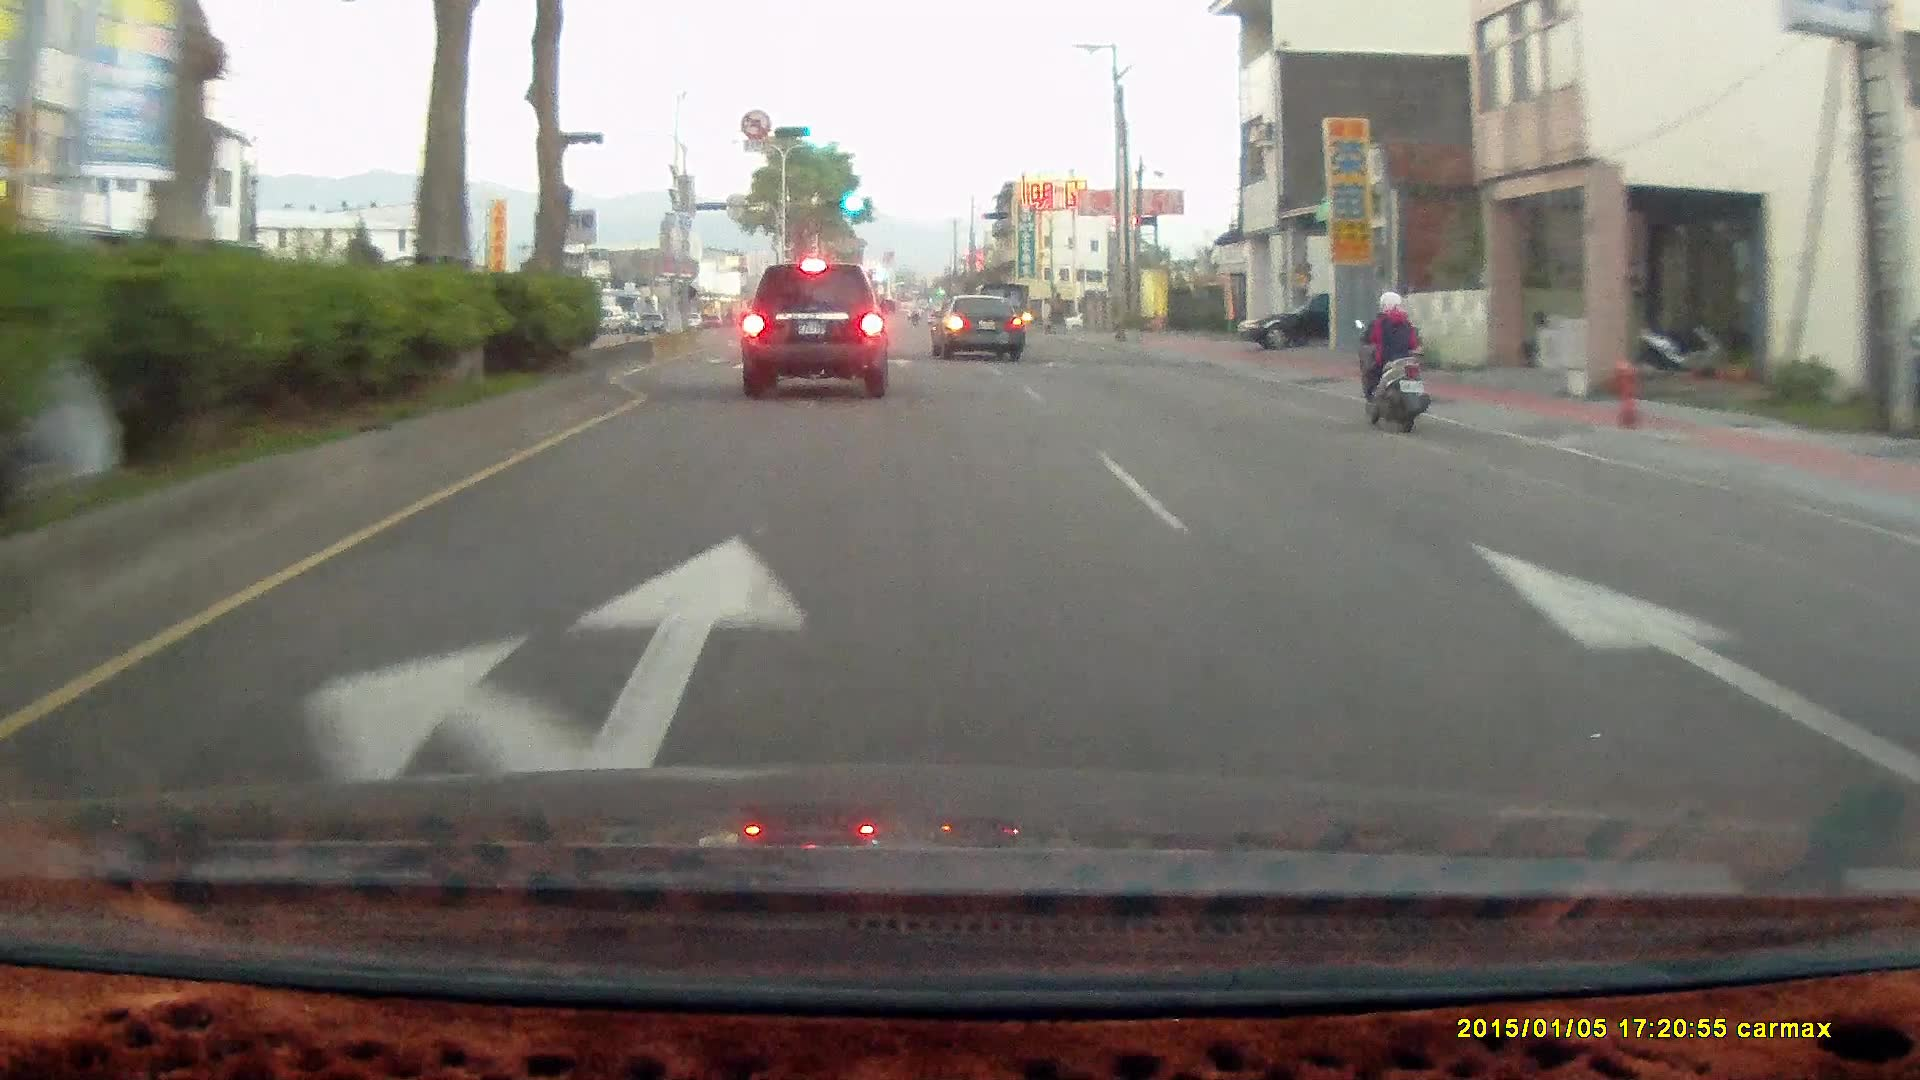rider: (1342, 277, 1447, 443), (1353, 288, 1430, 435)
vehicle: (733, 261, 889, 404), (742, 264, 896, 397), (1237, 289, 1413, 347), (930, 293, 1022, 359), (935, 296, 1027, 361), (1237, 292, 1337, 351)
